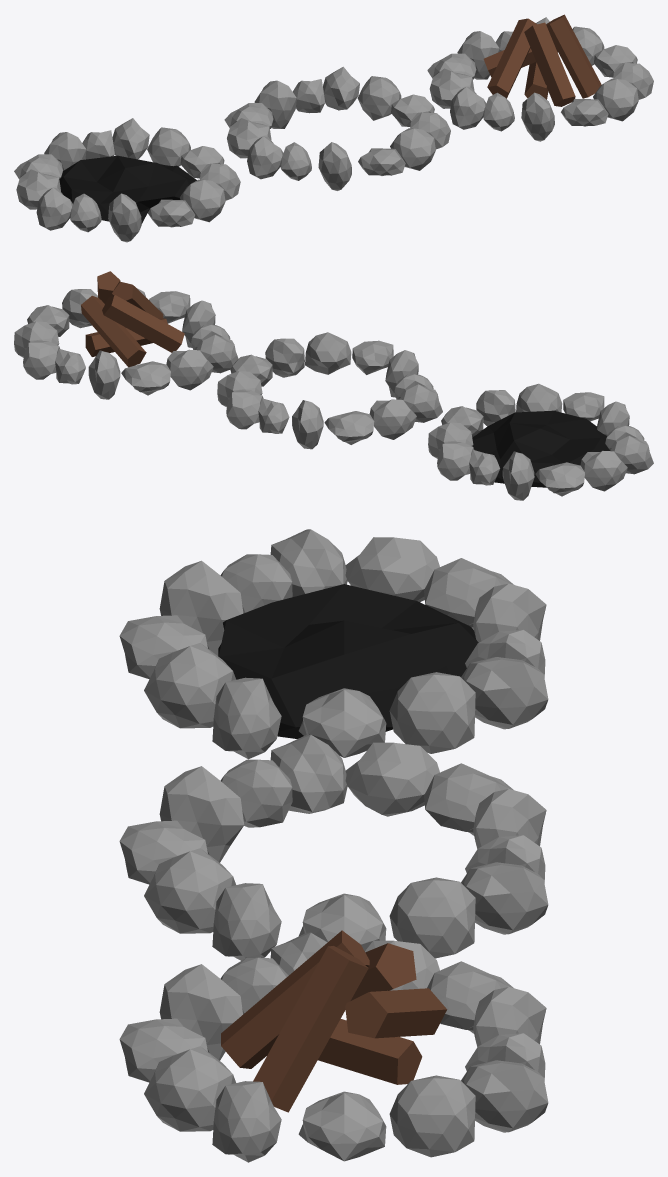
Rendered from Campfire.fbx.
The picture shows the model from 3 angles, top to bottom: view 1: azimuth 30°, elevation 25°; view 2: azimuth 150°, elevation 25°; view 3: azimuth 270°, elevation 25°; orthographic projection. The views are drawn at different scales.
Visible parts, largest first — view 1: Icosphere.041, Cylinder.005, Icosphere.040; view 2: Icosphere.041, Cylinder.005, Icosphere.040; view 3: Icosphere.041, Cylinder.005, Icosphere.040.
Boxes of the visible parts, <box> form: Icosphere.041: <box>14,118,240,242</box>; Cylinder.005: <box>427,14,653,141</box>; Icosphere.040: <box>224,66,450,190</box>; Icosphere.041: <box>428,383,653,500</box>; Cylinder.005: <box>14,271,238,399</box>; Icosphere.040: <box>217,332,442,449</box>; Icosphere.041: <box>119,529,548,759</box>; Cylinder.005: <box>119,930,548,1162</box>; Icosphere.040: <box>119,734,548,960</box>.
Bounding box in the file's own units: 1340 × 191 × 410.
